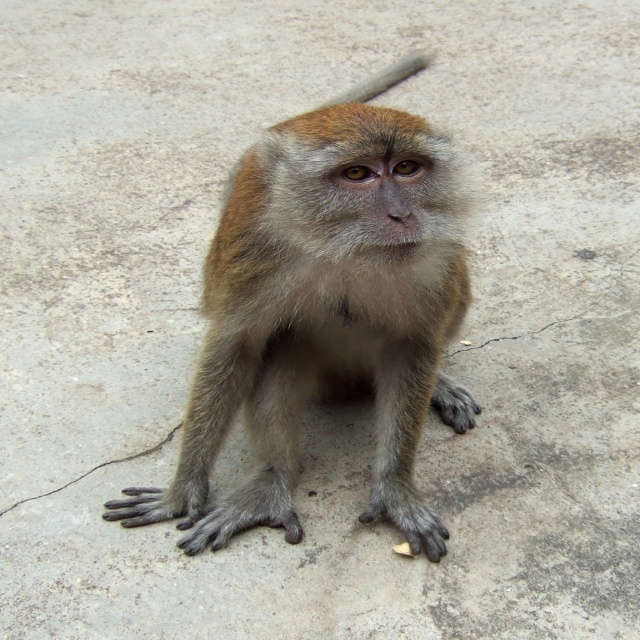Monkey: (102, 53, 509, 563)
